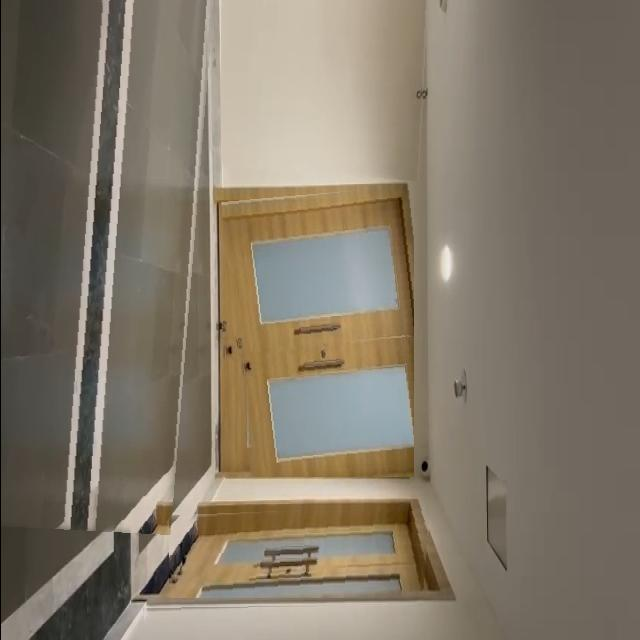door: (220, 185, 413, 477), (168, 504, 430, 598)
floor: (0, 0, 213, 535)
wall: (220, 0, 427, 181), (142, 603, 484, 640)
